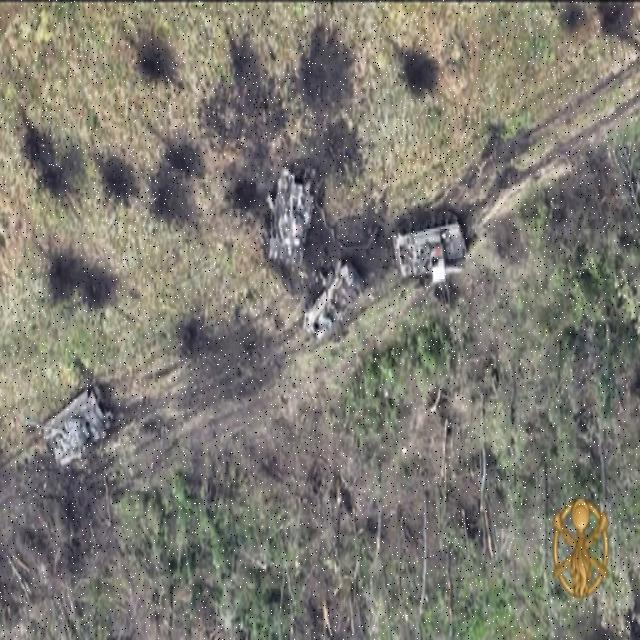APC-IFV: (298, 251, 368, 349), (392, 215, 472, 289)
TANK: (21, 376, 115, 474), (265, 158, 321, 278)
